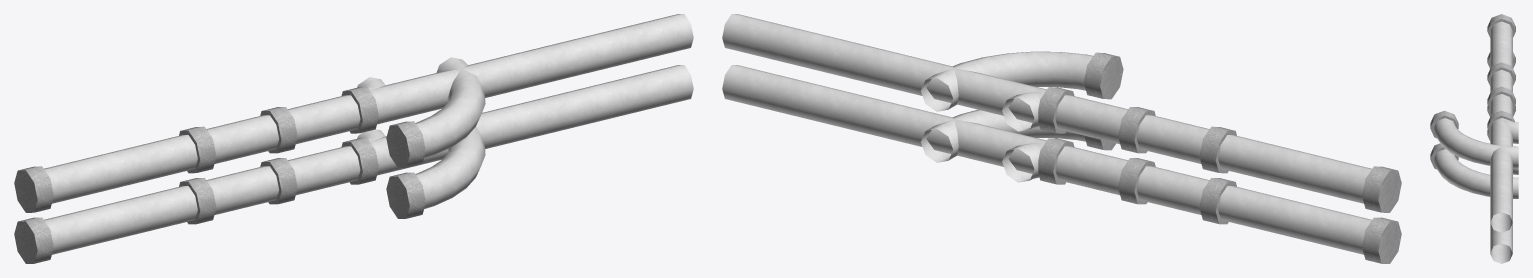
File: Pipe_Collection.fbx
3 renders of one model, left to right at view 1: azimuth 30°, elevation 25°; view 2: azimuth 150°, elevation 25°; view 3: azimuth 270°, elevation 25°, orthographic. The views are drawn at different scales.
Parts seen in each view (by area): view 1: Pipe_Straight_003, Pipe_Straight_002, Pipe_Curve_002, Pipe_Straight_001, Pipe_Curve_001; view 2: Pipe_Straight_003, Pipe_Straight_002, Pipe_Straight_001, Pipe_Curve_002, Pipe_Curve_001; view 3: Pipe_Curve_002, Pipe_Straight_003, Pipe_Straight_002, Pipe_Straight_001, Pipe_Curve_001.
Part boxes in pixels (box(x1,y1,x2,y2)): Pipe_Straight_003: box(14, 14, 693, 263); Pipe_Straight_002: box(179, 53, 530, 224); Pipe_Curve_002: box(386, 57, 485, 218); Pipe_Straight_001: box(260, 73, 448, 204); Pipe_Curve_001: box(341, 77, 385, 184); Pipe_Straight_003: box(722, 14, 1401, 263); Pipe_Straight_002: box(885, 53, 1236, 224); Pipe_Straight_001: box(966, 73, 1155, 204); Pipe_Curve_002: box(921, 51, 1123, 162); Pipe_Curve_001: box(1002, 87, 1074, 184); Pipe_Curve_002: box(1430, 110, 1518, 198); Pipe_Straight_003: box(1487, 14, 1515, 263); Pipe_Straight_002: box(1487, 62, 1515, 173); Pipe_Straight_001: box(1487, 86, 1515, 146); Pipe_Curve_001: box(1487, 110, 1518, 174).
Size of the model in its own units: 8.1 by 1.55 by 1.1.
1 material, 1 textured.
